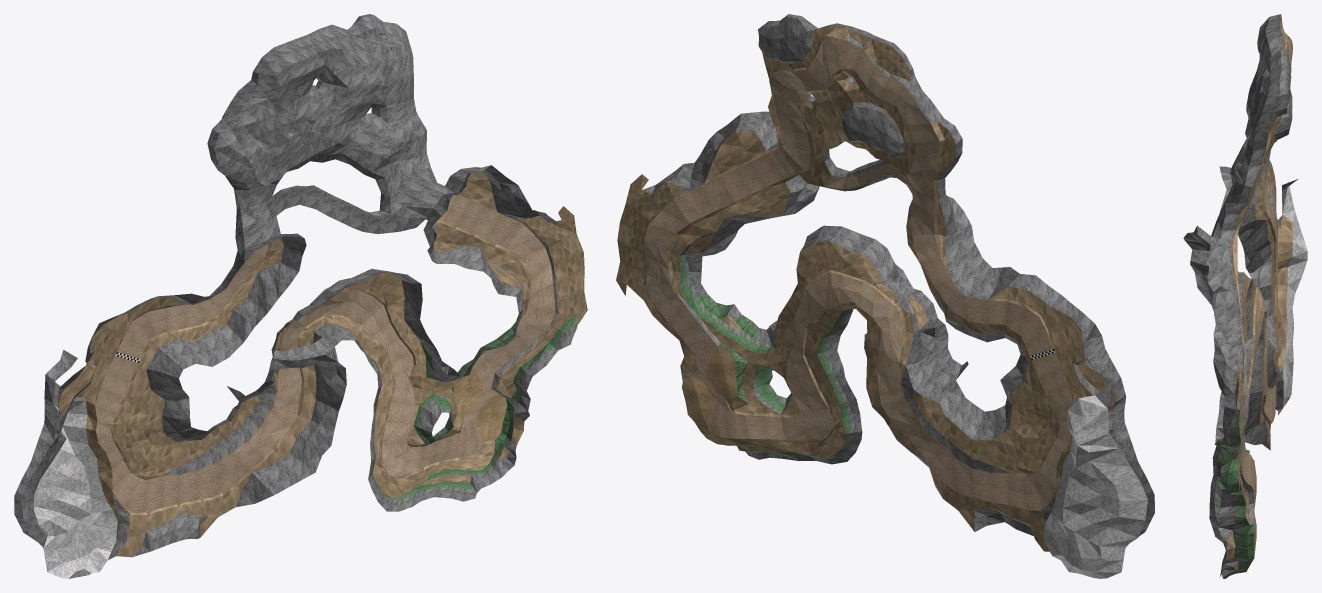
File: TITTRK.GDB.obj
3 renders of one model, left to right at view 1: azimuth 30°, elevation 25°; view 2: azimuth 150°, elevation 25°; view 3: azimuth 270°, elevation 25°, orthographic.
Size of the model in its own units: 1733 by 1469 by 332.
Materials: 9 (9 with a texture image).
